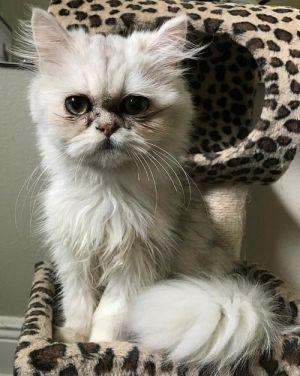persian: (20, 4, 203, 176)
